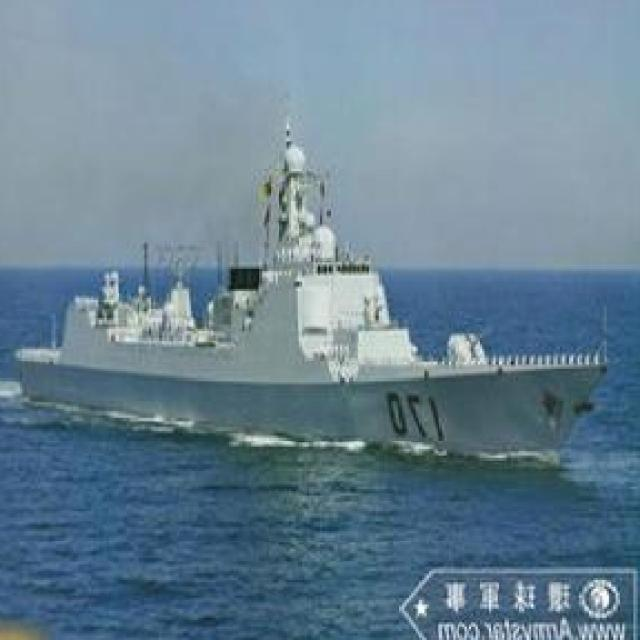navalvessels: (18, 109, 604, 446)
